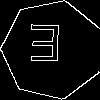E: (27, 24, 62, 71)
